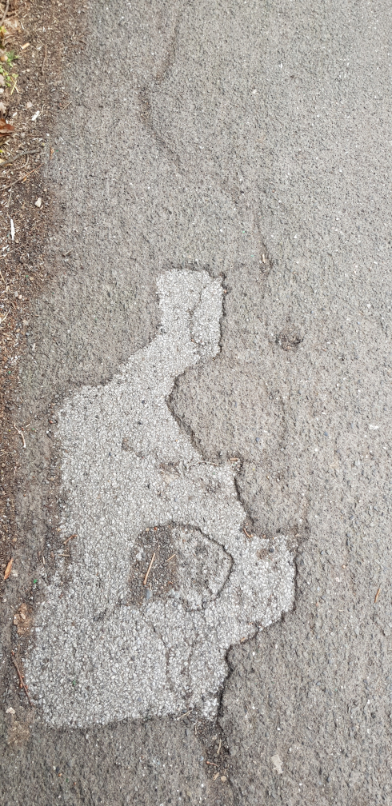pothole: (5, 259, 311, 739), (124, 517, 235, 613)
